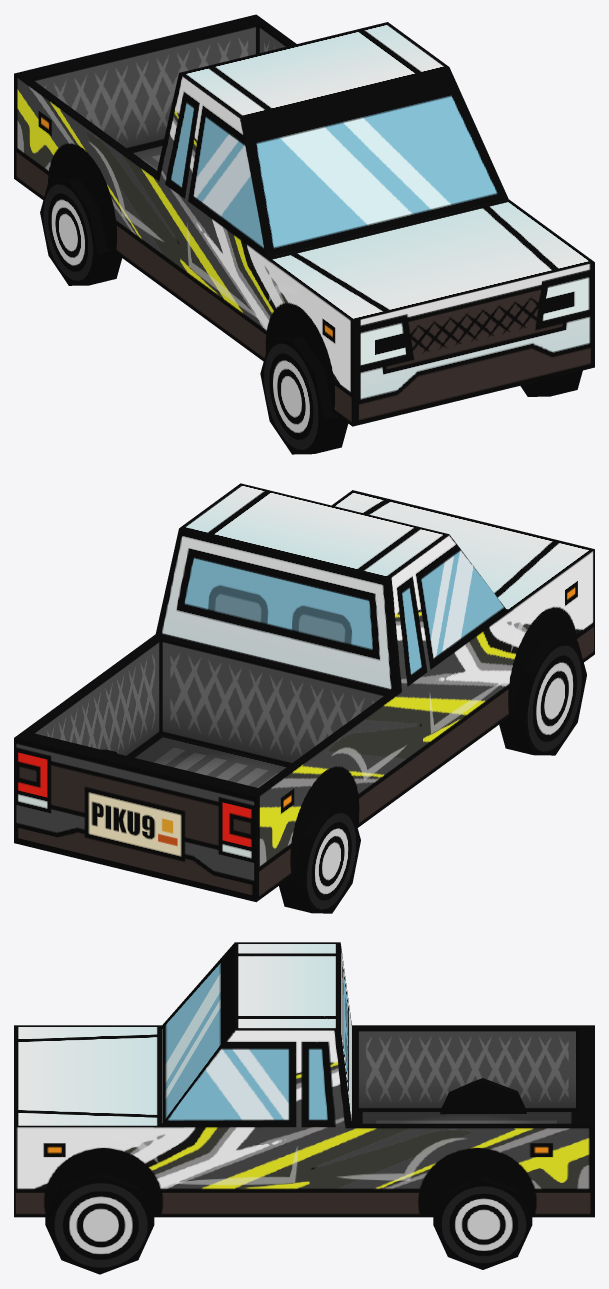
Rendered from car14_13.gltf.
3 renders of one model, top to bottom at view 1: azimuth 30°, elevation 25°; view 2: azimuth 150°, elevation 25°; view 3: azimuth 270°, elevation 25°, orthographic. The views are drawn at different scales.
Parts seen in each view (by area): view 1: Cylinder.002; view 2: Cylinder.002; view 3: Cylinder.002.
Part boxes in pixels (x1,y1,x2,y2): Cylinder.002: [14, 14, 594, 454]; Cylinder.002: [14, 483, 594, 913]; Cylinder.002: [14, 942, 594, 1274].
Size of the model in its own units: 2.84 by 2.81 by 6.33.
Materials: 1 (1 with a texture image).
